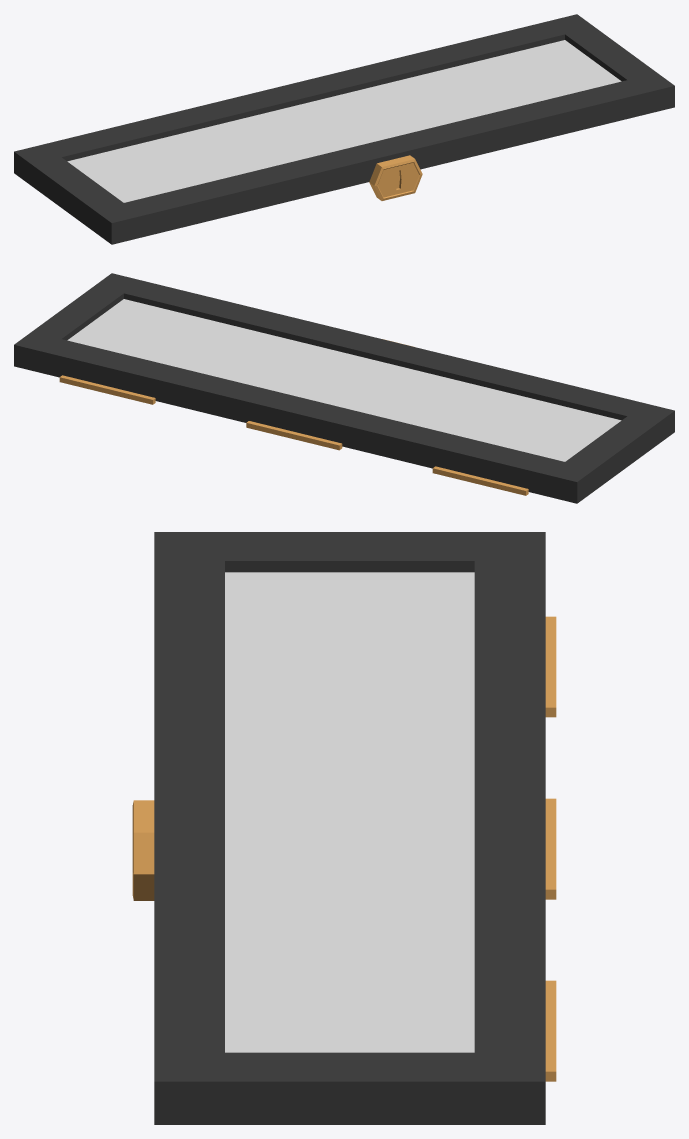
The model's file is SideTableLid.fbx.
3 views of the same model, one above another, from view 1: azimuth 30°, elevation 25°; view 2: azimuth 150°, elevation 25°; view 3: azimuth 270°, elevation 25° (orthographic). The views are drawn at different scales.
Visible parts, largest first — view 1: TapaConsola; view 2: TapaConsola; view 3: TapaConsola.
Part boxes in pixels (box(x1,y1,x2,y2)): TapaConsola: box(14, 14, 674, 244); TapaConsola: box(14, 273, 674, 503); TapaConsola: box(132, 532, 556, 1124).
Size of the model in its own units: 167 by 11.05 by 54.5.
